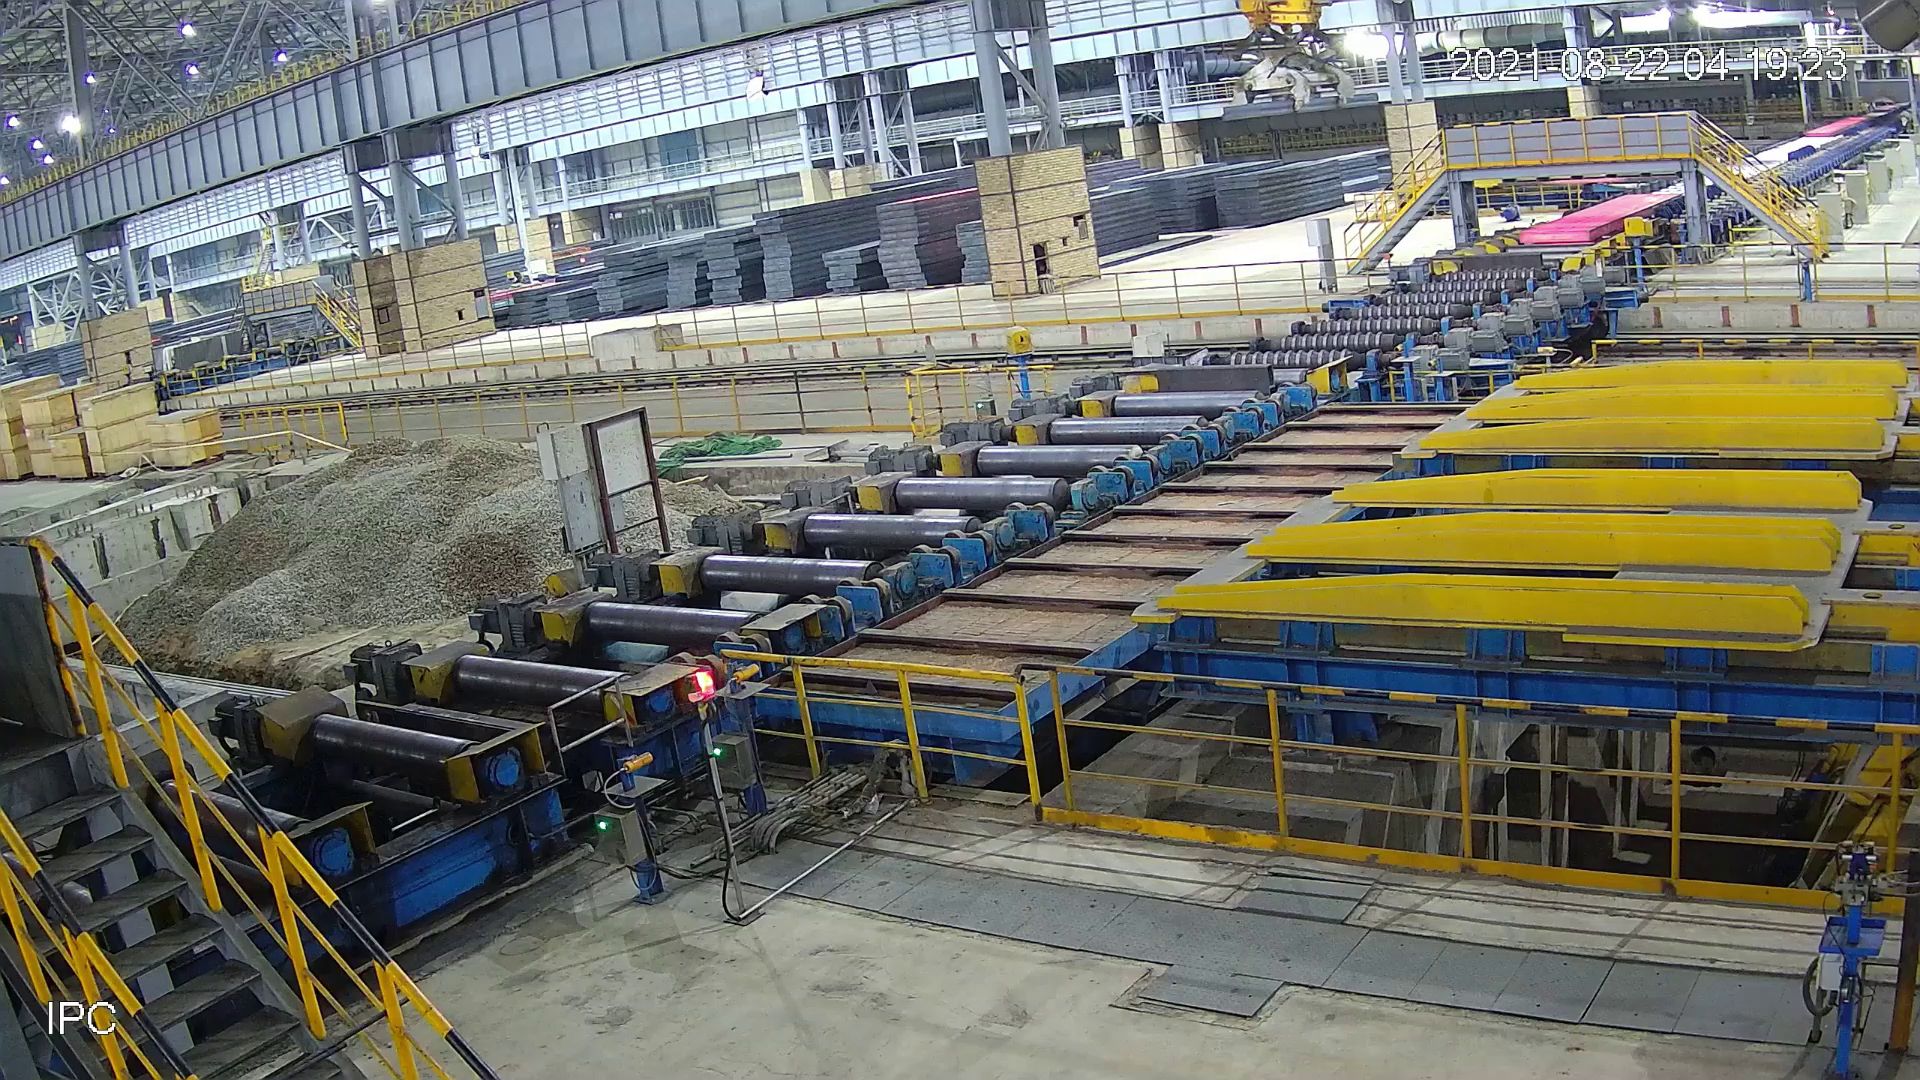slab: (1519, 193, 1685, 245)
